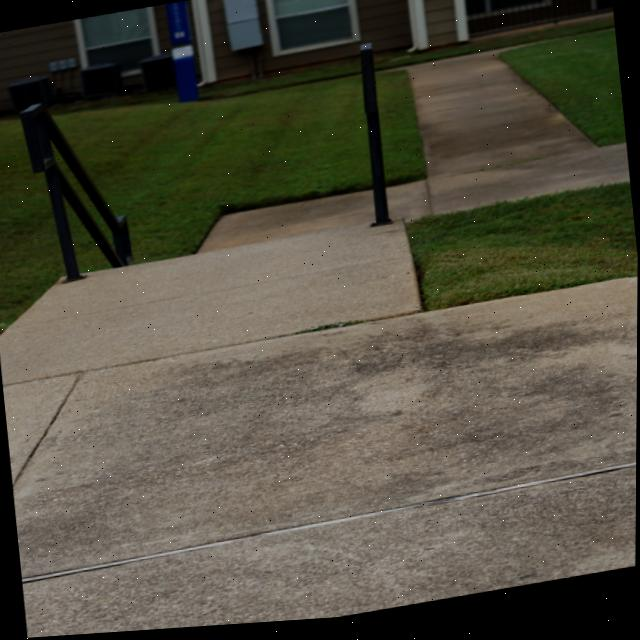Obstacle: (20, 103, 132, 282), (360, 49, 392, 232)
Sidewalk: (0, 196, 638, 638), (387, 58, 630, 227)
